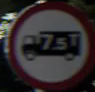Heavy Vehicles: (5, 5, 91, 78)
